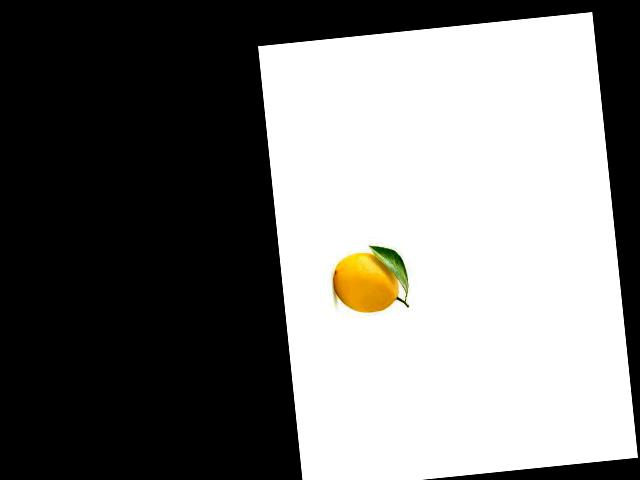lemon: (325, 246, 406, 320)
